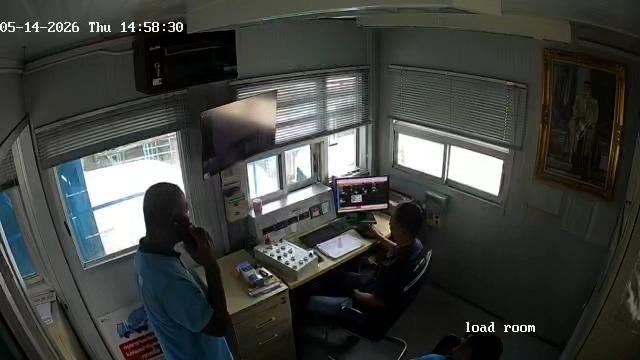Head: (143, 182, 192, 244), (452, 330, 500, 360), (391, 202, 422, 240)
People: (136, 183, 235, 360), (356, 201, 425, 309), (421, 329, 504, 360)
Phone: (171, 210, 191, 236)
